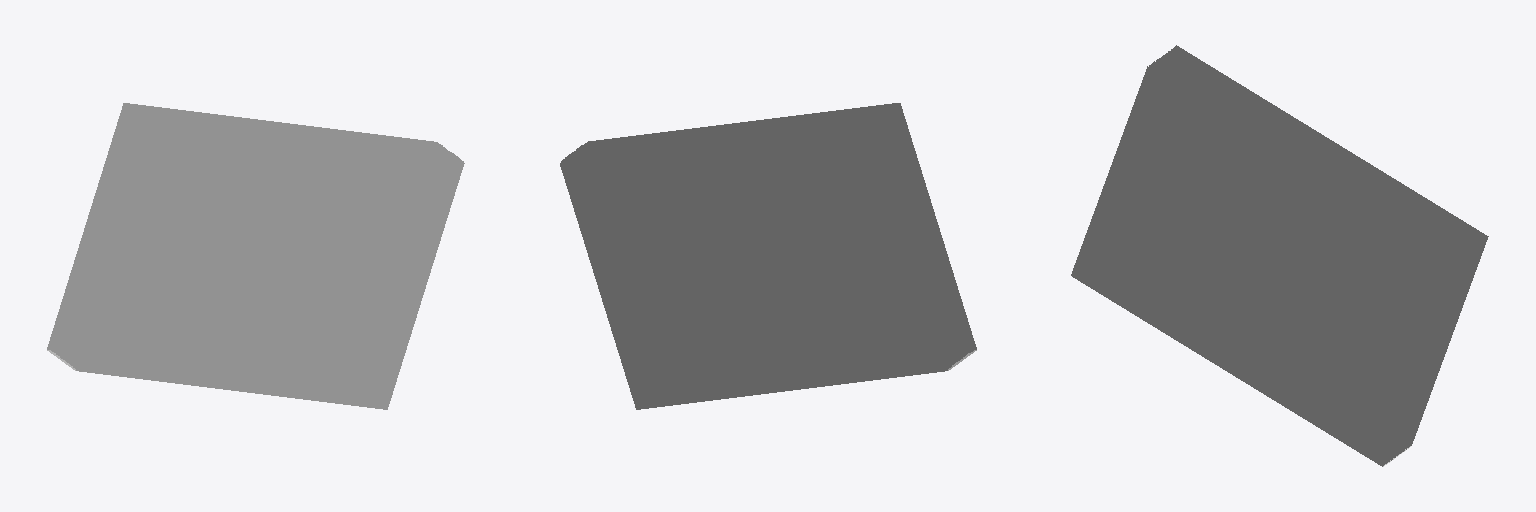
Rendered from book.obj.
3 renders of one model, left to right at view 1: azimuth 30°, elevation 25°; view 2: azimuth 150°, elevation 25°; view 3: azimuth 330°, elevation 25°, orthographic.
Parts seen in each view (by area): view 1: sites_Plane, Plane.019; view 2: sites_Plane, Plane.019; view 3: sites_Plane, Plane.019.
Part boxes in pixels (left/top/right/bottom): sites_Plane: left=47, top=103, right=464, bottom=409; Plane.019: left=49, top=103, right=463, bottom=368; sites_Plane: left=560, top=103, right=976, bottom=409; Plane.019: left=561, top=103, right=974, bottom=368; sites_Plane: left=1071, top=45, right=1488, bottom=466; Plane.019: left=1149, top=46, right=1487, bottom=464.
Size of the model in its own units: 35.33 by 29.81 by 4.53.